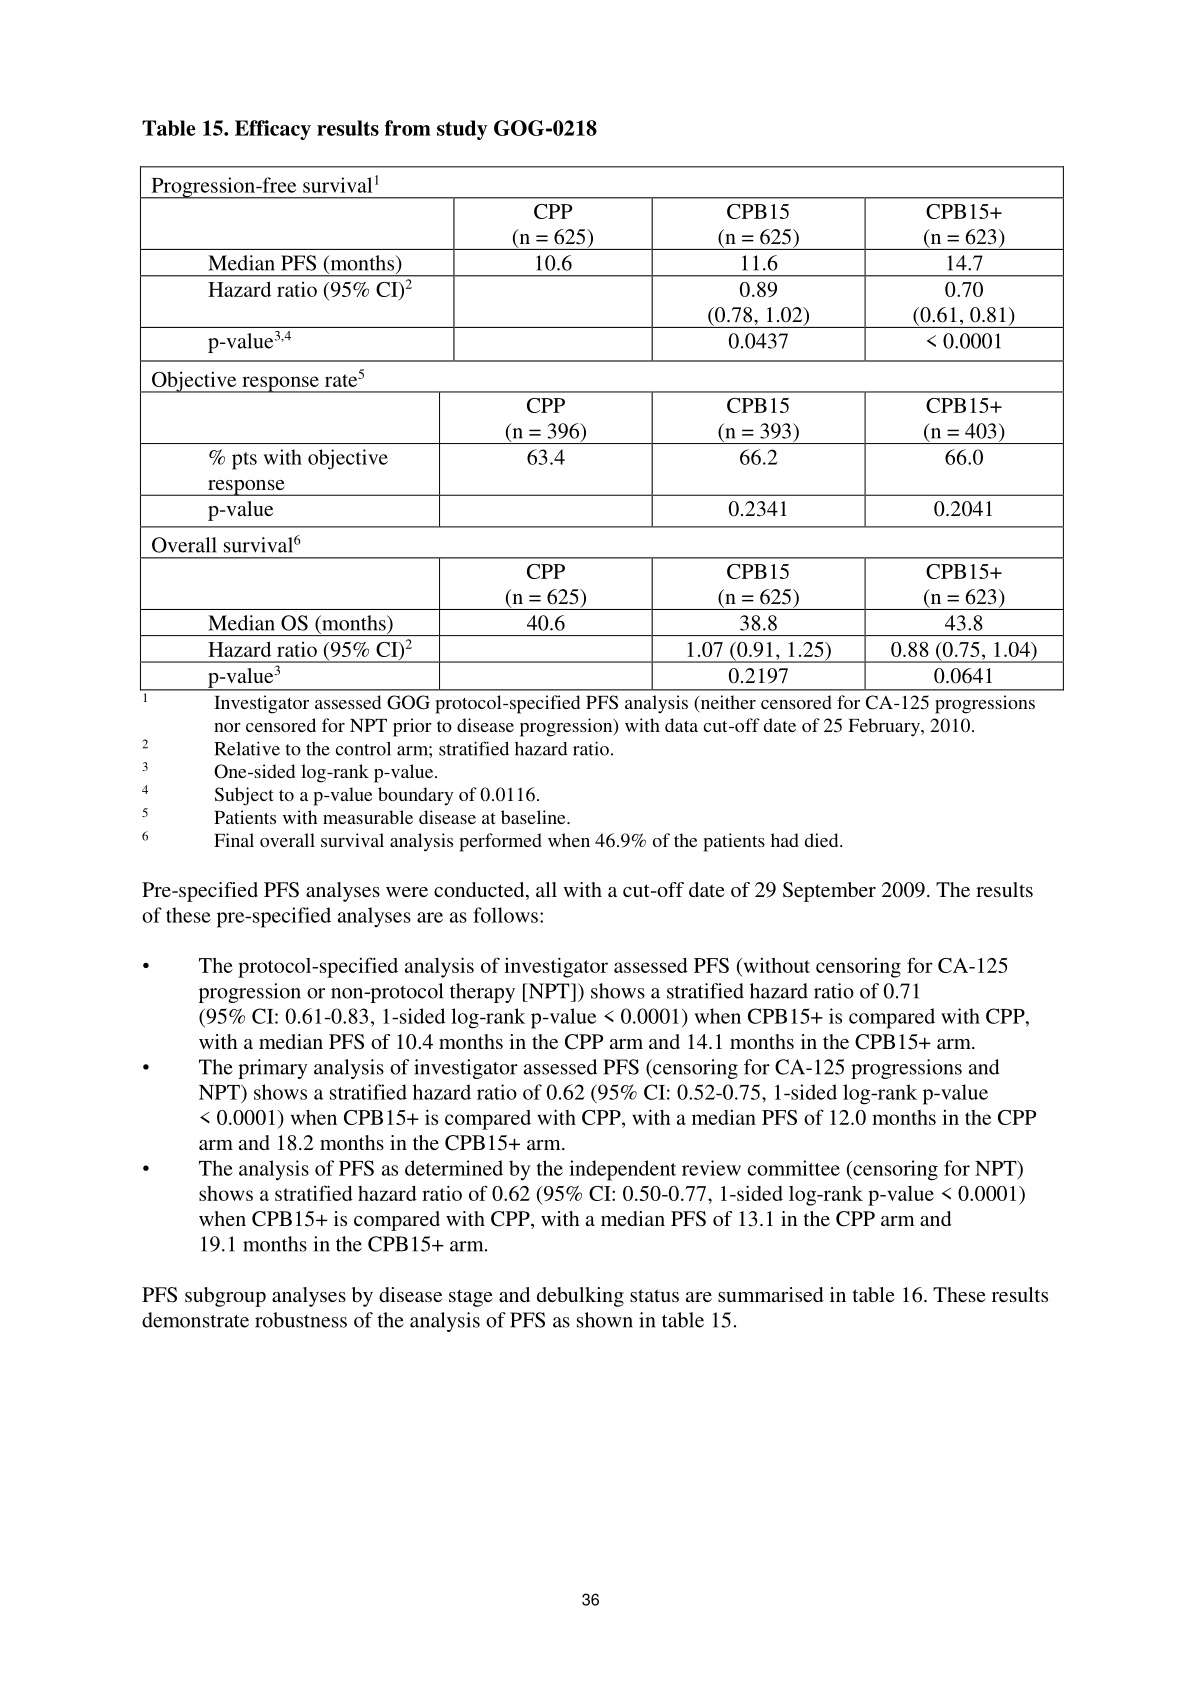merged_cells: (139, 165, 1063, 691)
